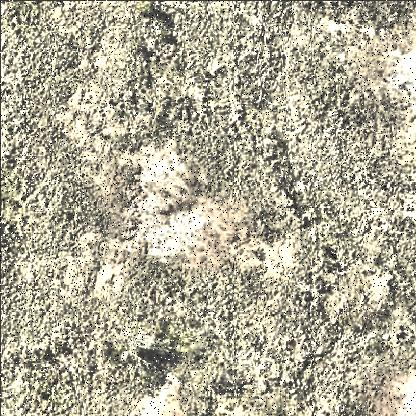tree-top: (114, 329, 184, 386)
